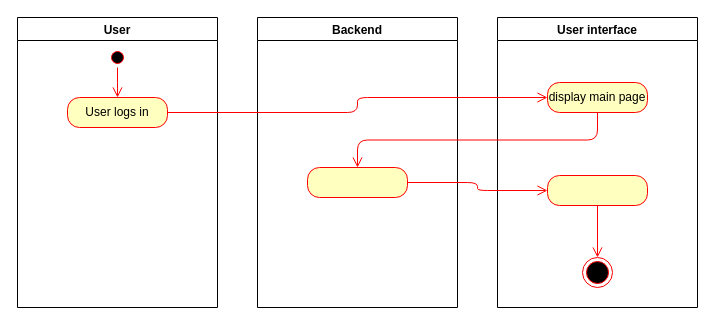
Some shapes in this 715 by 325 pixel diagram are drawn without their labels. The centre of each missing label's shape, as x and y in pixels:
display a tab for each fridge: point (597, 190)
get all fridges of the user: point (357, 182)
